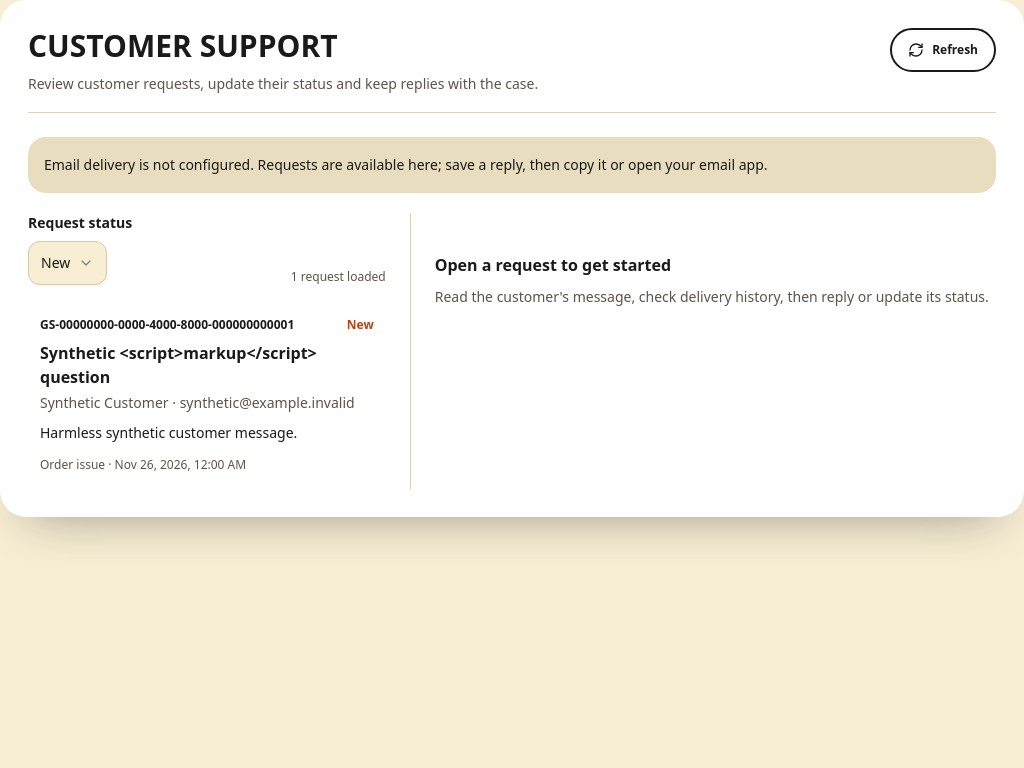
Test: Administrative support UI › copies a draft without sending mail or marking a reply/status as sent
Click the button with aria-label "Open GS-" at (207, 395), box [28,301,386,489]
(page scrolled)
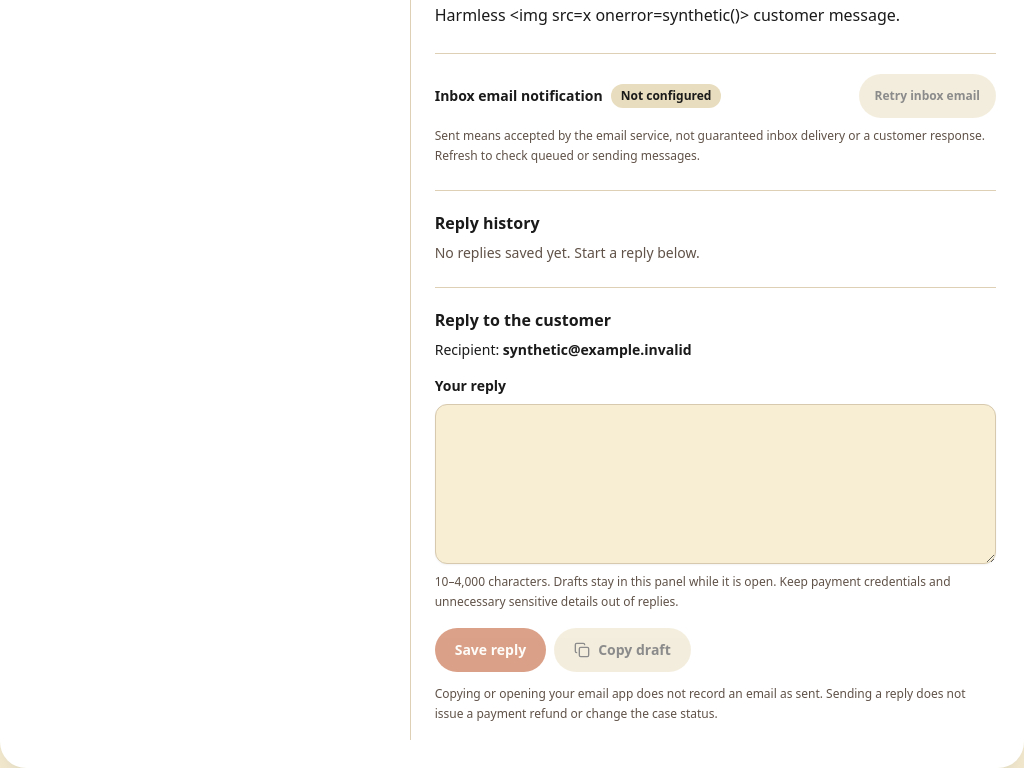
Expected: the text box labelled "Your reply" is shown
Type "A harmless manually copied reply." into the text box labelled "Your reply" at (715, 484), box [435,404,996,564]
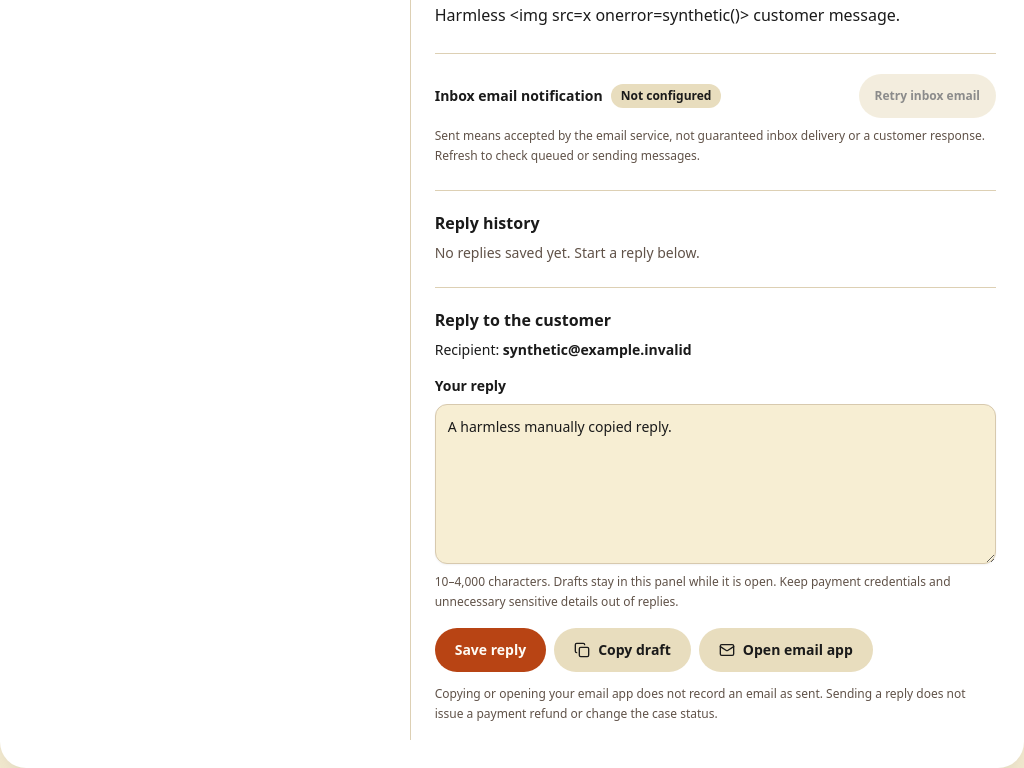
Click the button "Copy draft" at (623, 650), box [554,628,691,672]
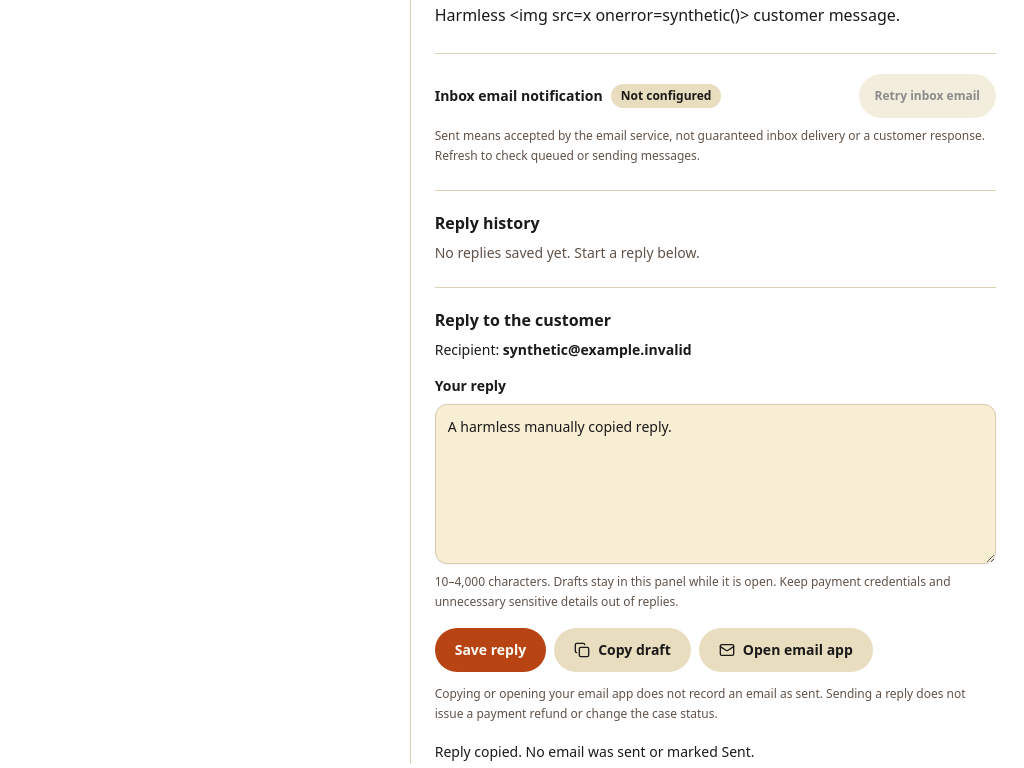
Expected: the text "Reply copied. No email was sent or marked Sent." is shown, [435,742,754,761]
